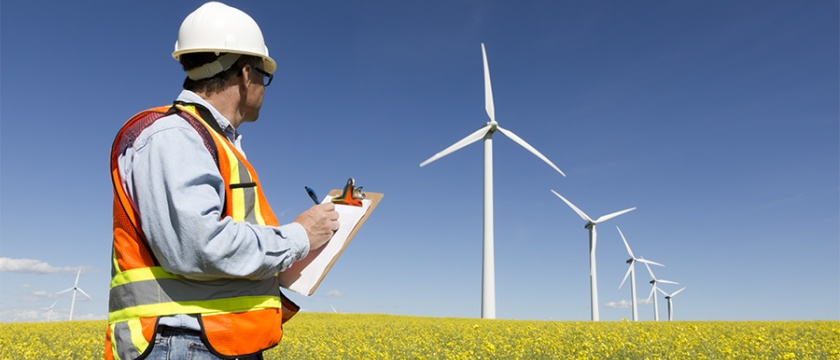helmet: (173, 4, 275, 74)
person with full safety: (107, 8, 295, 355)
safety vest: (102, 106, 290, 349)
